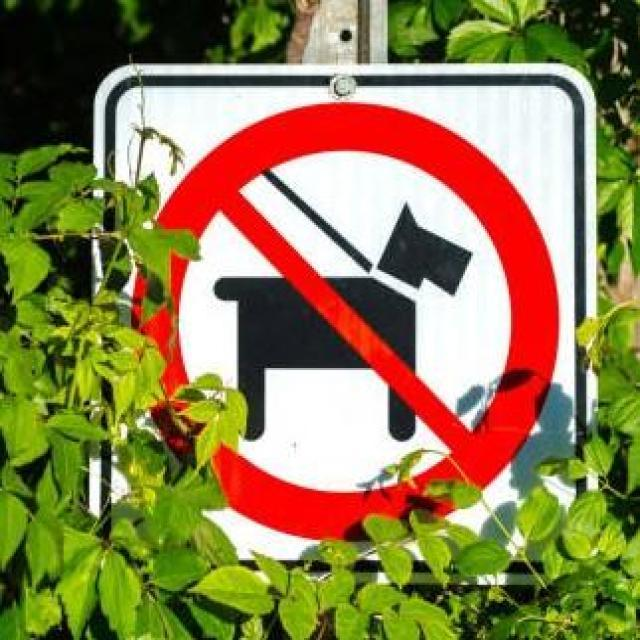obstructed_road_sign: (67, 57, 592, 588)
